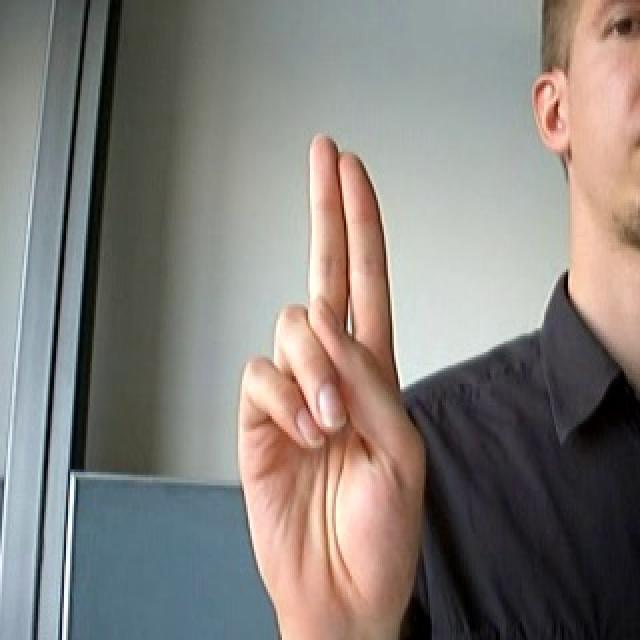U: (229, 104, 448, 640)
